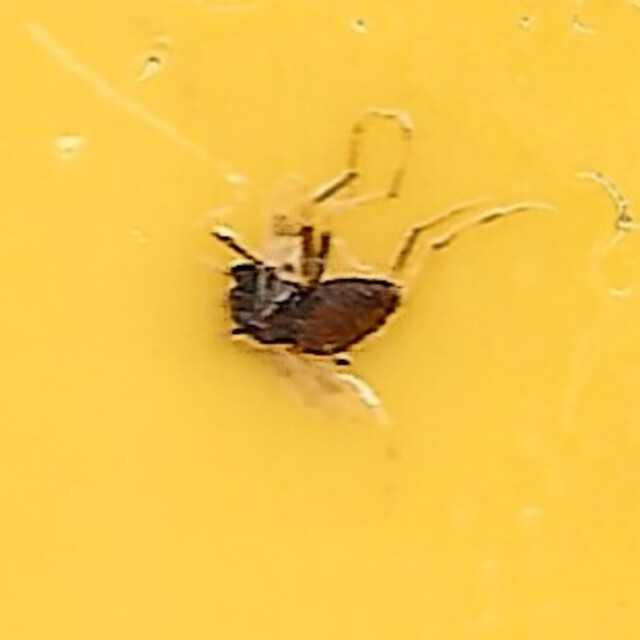Nematocera: (206, 192, 434, 448)
